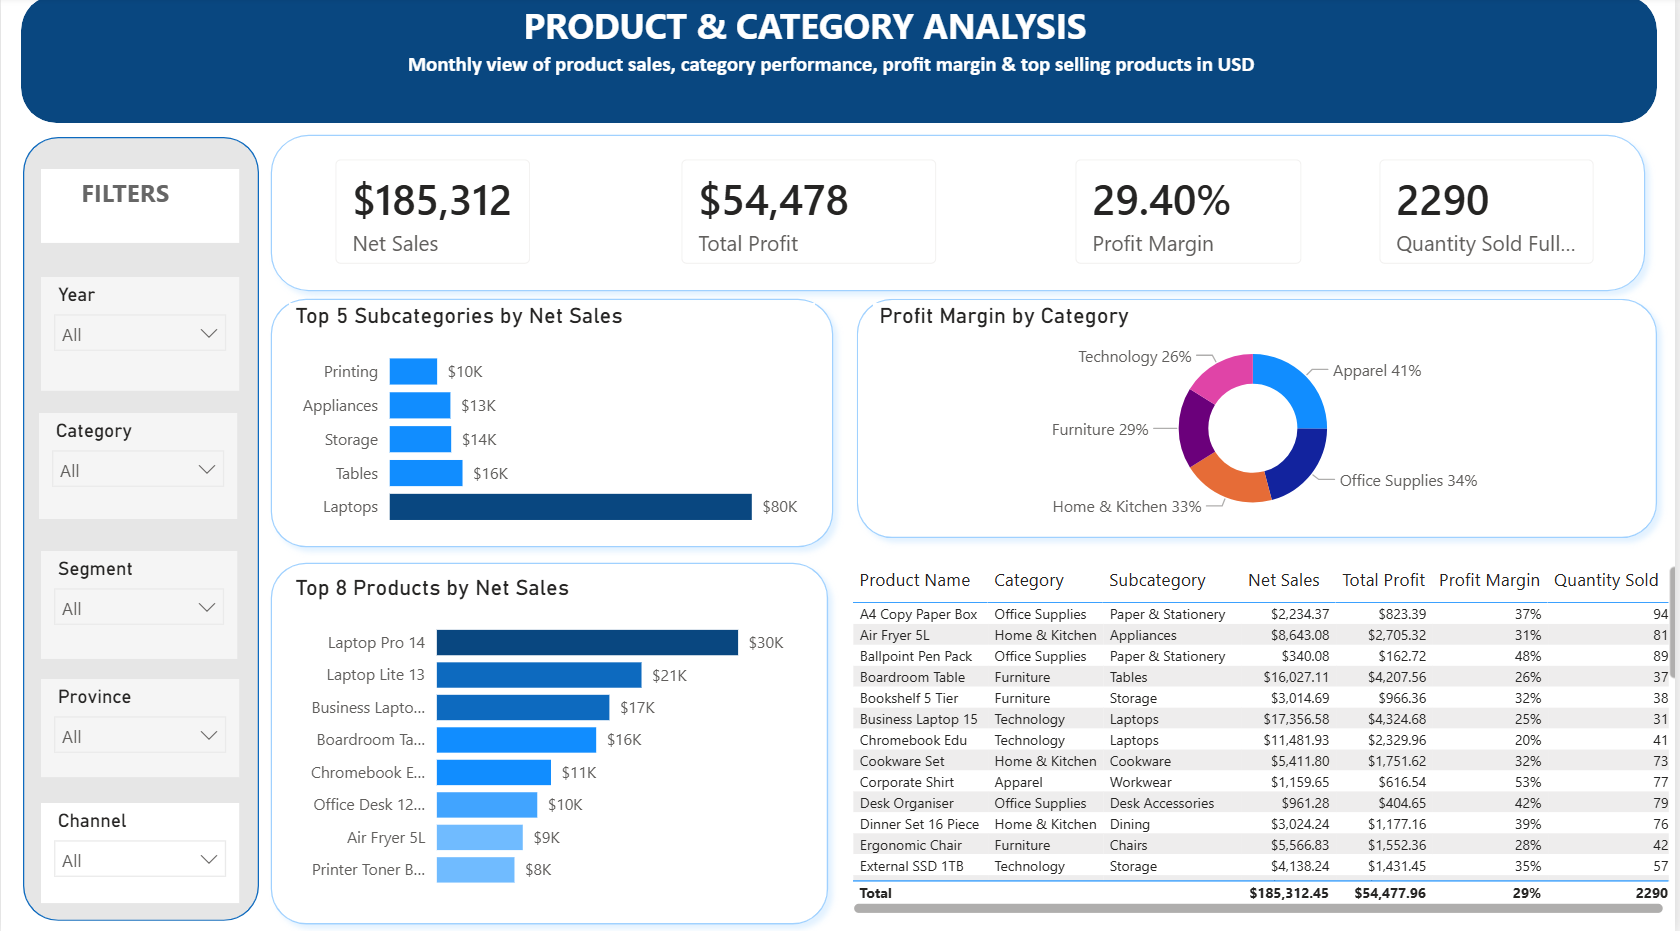

Layout of this report page (visuals, bound fields, positions):
{"tool":"powerbi","page":{"name":"Product and Category Analysis","canvas":[1280,720],"ordinal":2},"visuals":[{"type":"textbox","box":[9.5,0,649.5,56.8],"z":0},{"type":"cardVisual","fields":{"Data":["Fact_Sales.Net Sales Display"]},"box":[9.5,138.2,263.2,107.9],"z":1000},{"type":"cardVisual","fields":{"Data":["Fact_Sales.Total Profit Display"]},"box":[352.2,138.2,212.1,109.8],"z":2000},{"type":"cardVisual","fields":{"Data":["Fact_Sales.Profit Margin"]},"box":[658.9,138.2,168.5,107.9],"z":3000},{"type":"textbox","box":[0,56.8,704.4,30.3],"z":4000},{"type":"slicer","fields":{"Values":["Dim_Date.Year"]},"box":[9.5,85.2,191.2,53],"z":5000},{"type":"slicer","fields":{"Values":["Dim_Product.Category"]},"box":[236.7,85.2,221.5,53],"z":6000},{"type":"slicer","fields":{"Values":["Dim_Customer.Province"]},"box":[717.6,85.2,212.1,68.2],"z":7000},{"type":"slicer","fields":{"Values":["Fact_Sales.Channel"]},"box":[1024.4,85.2,232.9,53],"z":8000},{"type":"slicer","fields":{"Values":["Dim_Customer.Segment"]},"box":[515,85.2,189.3,66.3],"z":9000},{"type":"cardVisual","fields":{"Data":["Fact_Sales.Quantity Sold Display"]},"box":[944.9,138.2,223.4,117.4],"z":10000},{"type":"clusteredBarChart","title":"Top 10 Products by Net Sales","fields":{"Category":["Dim_Product.Product_Name"],"Y":["Fact_Sales.Net Sales"]},"box":[9.5,246.2,505.6,284],"z":11000},{"type":"clusteredBarChart","title":"Profit Margin by Category","fields":{"Category":["Dim_Product.Category"],"Y":["Fact_Sales.Profit Margin"]},"box":[469.6,245.7,810.2,178.8],"z":12000},{"type":"clusteredBarChart","title":"Top 5 Subcategories by Net Sales","fields":{"Category":["Dim_Product.Subcategory"],"Y":["Fact_Sales.Net Sales"]},"box":[0,530.3,446.3,191.3],"z":13000},{"type":"tableEx","fields":{"Values":["Dim_Product.Product_Name","Dim_Product.Category","Dim_Product.Subcategory","Fact_Sales.Net Sales","Fact_Sales.Total Profit","Fact_Sales.Profit Margin","Fact_Sales.Quantity Sold"]},"box":[469.6,427.6,810.2,292.4],"z":14000}]}

Visuals, with their boxes in screenshot pixels (x1, y1, x2, y2), scaled from the page's 1280x720 canvas onto the 1680x931 screenshot:
textbox: bbox=(12, 0, 865, 73)
cardVisual - Fact_Sales.Net Sales Display: bbox=(12, 179, 358, 318)
cardVisual - Fact_Sales.Total Profit Display: bbox=(462, 179, 741, 321)
cardVisual - Fact_Sales.Profit Margin: bbox=(865, 179, 1086, 318)
textbox: bbox=(0, 73, 925, 113)
slicer - Dim_Date.Year: bbox=(12, 110, 263, 179)
slicer - Dim_Product.Category: bbox=(311, 110, 601, 179)
slicer - Dim_Customer.Province: bbox=(942, 110, 1220, 198)
slicer - Fact_Sales.Channel: bbox=(1345, 110, 1650, 179)
slicer - Dim_Customer.Segment: bbox=(676, 110, 924, 196)
cardVisual - Fact_Sales.Quantity Sold Display: bbox=(1240, 179, 1533, 331)
"Top 10 Products by Net Sales" clusteredBarChart: bbox=(12, 318, 676, 686)
"Profit Margin by Category" clusteredBarChart: bbox=(616, 318, 1679, 549)
"Top 5 Subcategories by Net Sales" clusteredBarChart: bbox=(0, 686, 586, 930)
tableEx - Dim_Product.Product_Name x Dim_Product.Category: bbox=(616, 553, 1679, 930)
